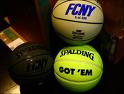tennis ball: (53, 43, 105, 92)
